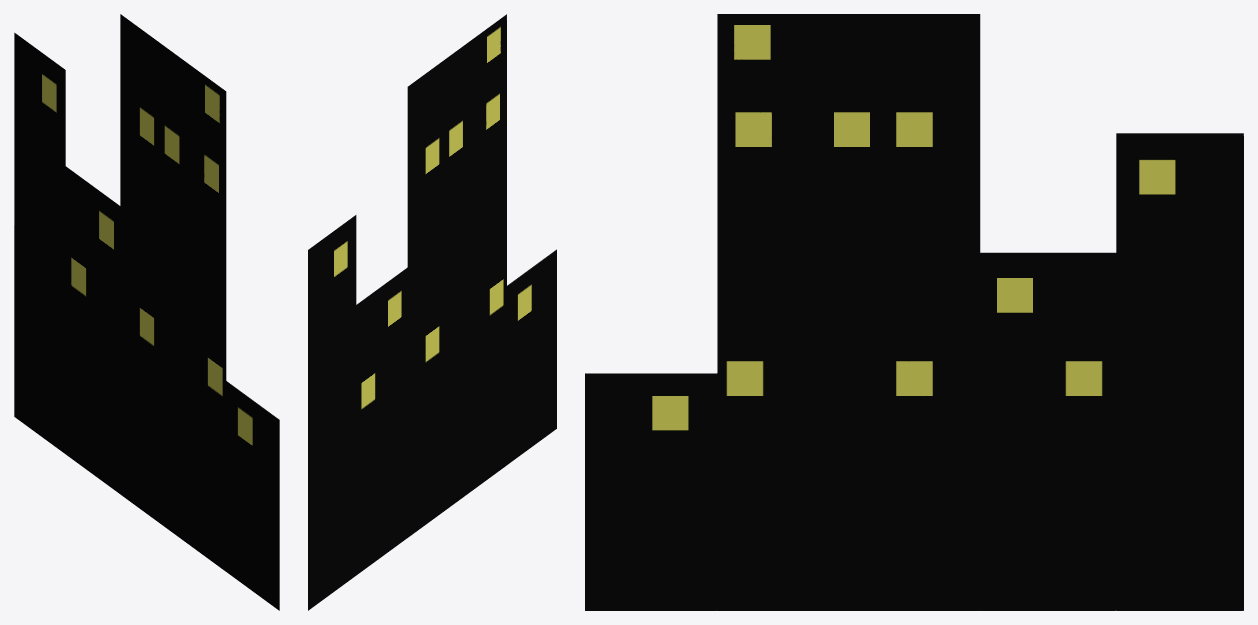
File: buildingbackground.fbx
The picture shows the model from 3 angles, left to right: view 1: azimuth 30°, elevation 25°; view 2: azimuth 150°, elevation 25°; view 3: azimuth 270°, elevation 25°; orthographic projection. The views are drawn at different scales.
Visible parts, largest first — view 1: pCube1; view 2: pCube1; view 3: pCube1.
Boxes of the visible parts, bbox=[...] form: pCube1: bbox=[14, 14, 279, 610]; pCube1: bbox=[308, 14, 556, 610]; pCube1: bbox=[585, 14, 1243, 610].
Bounding box in the file's own units: 0 × 5 × 5.
